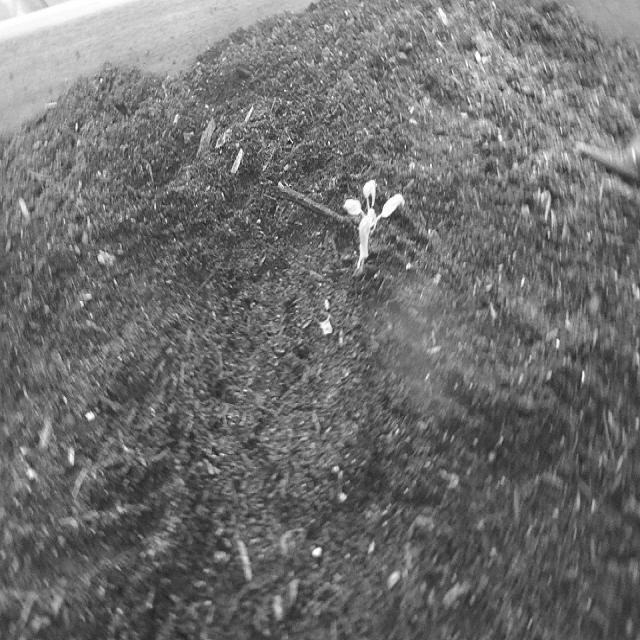Healthy: (341, 174, 408, 276)
